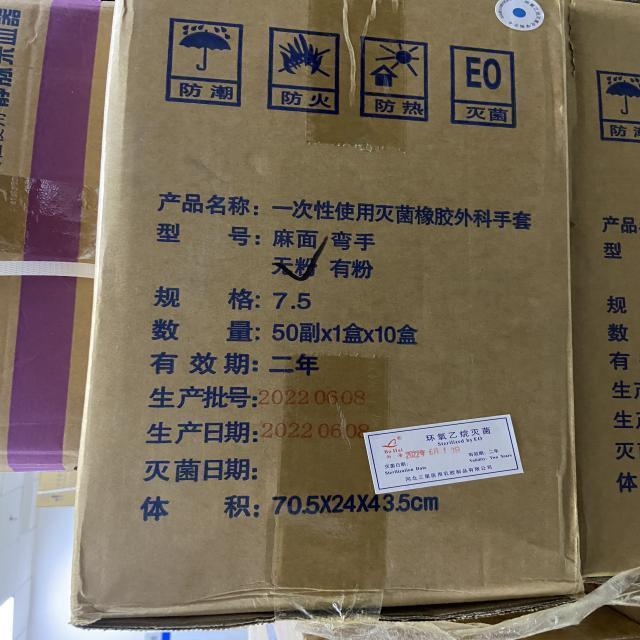box: (78, 0, 576, 613), (0, 0, 115, 469), (571, 0, 640, 599)
